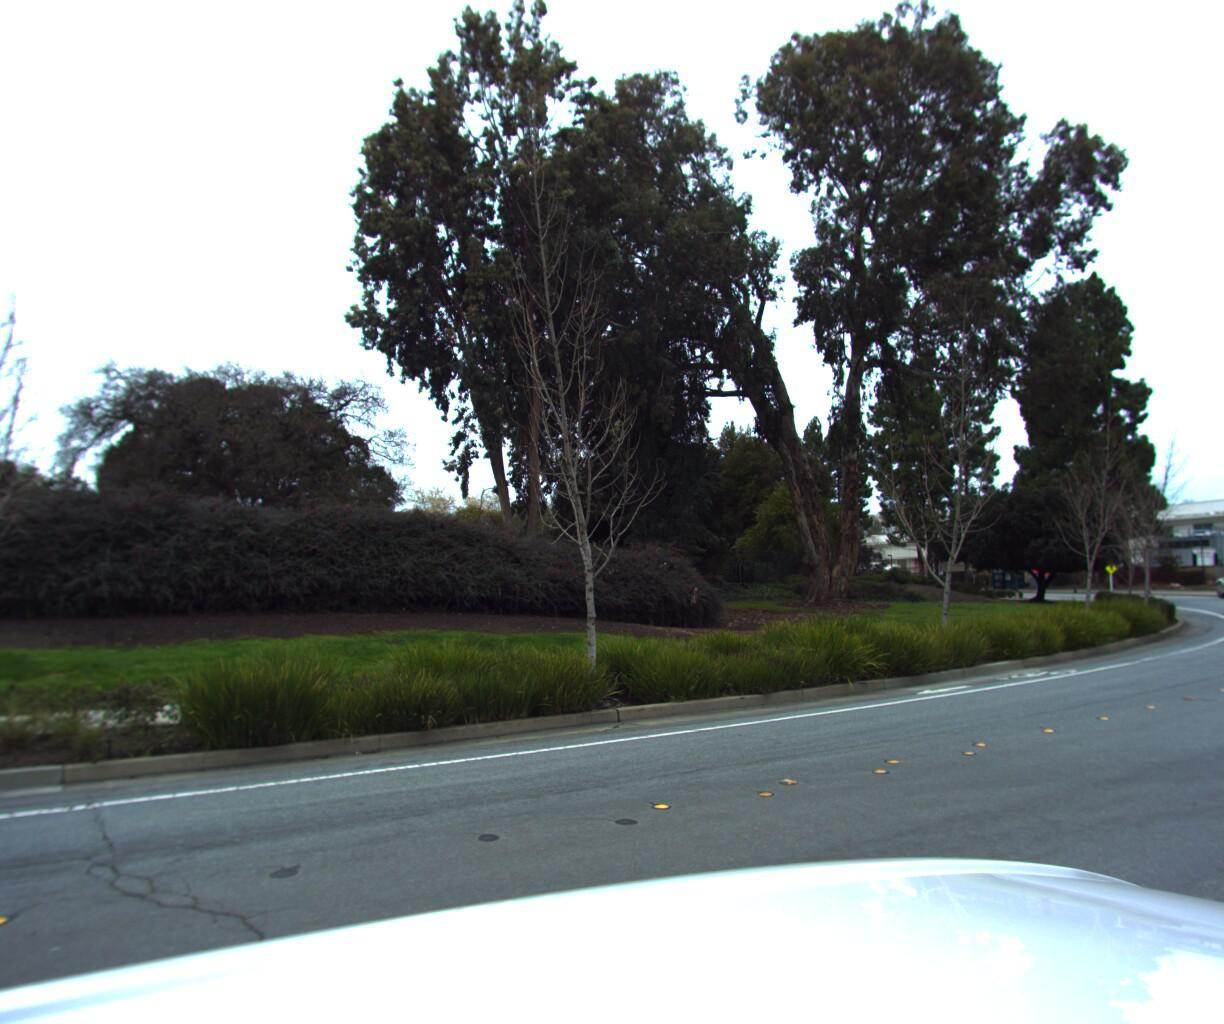truck: (1209, 535, 1224, 598)
